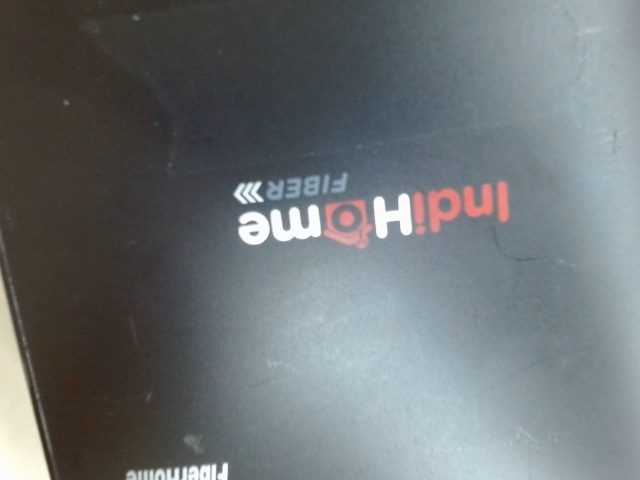AF_IndiHome: (218, 165, 521, 259)
